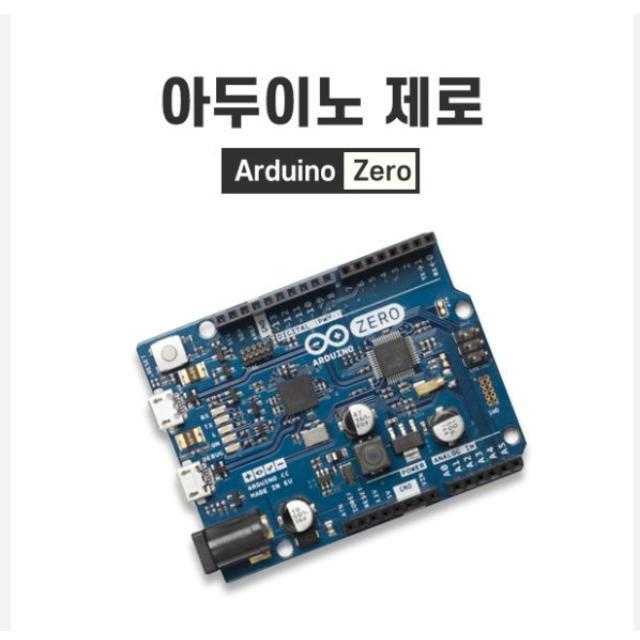Arduino-Zero: (138, 234, 526, 583)
